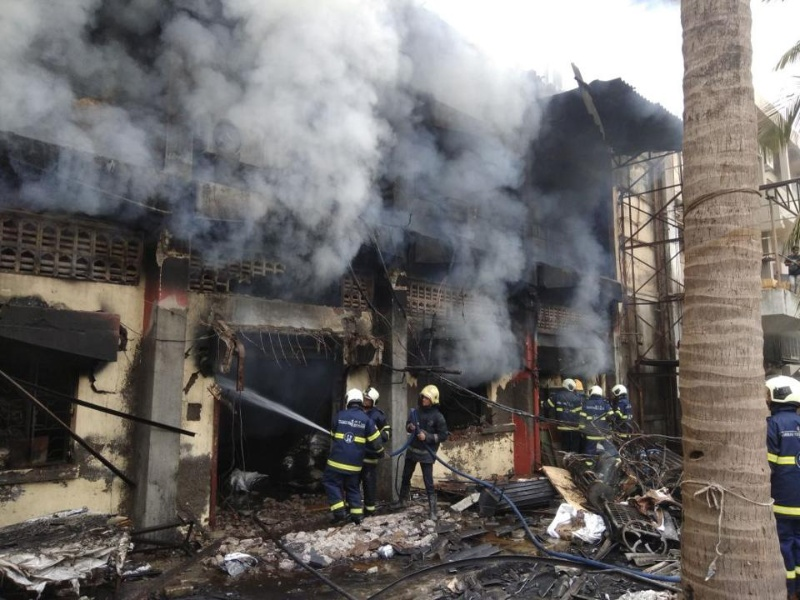smoke: (1, 1, 583, 256)
